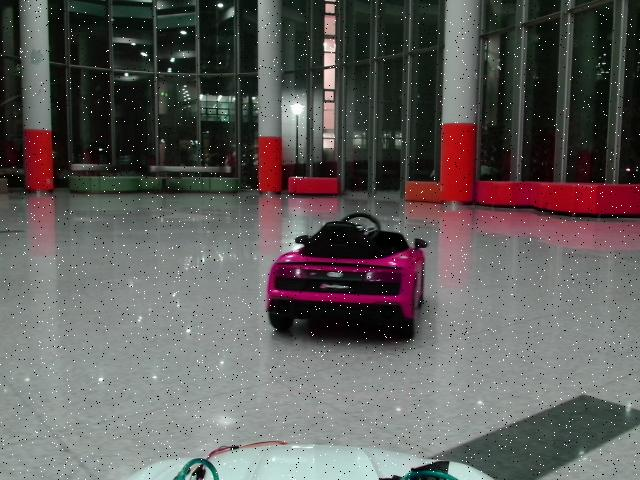car: (266, 212, 430, 337)
